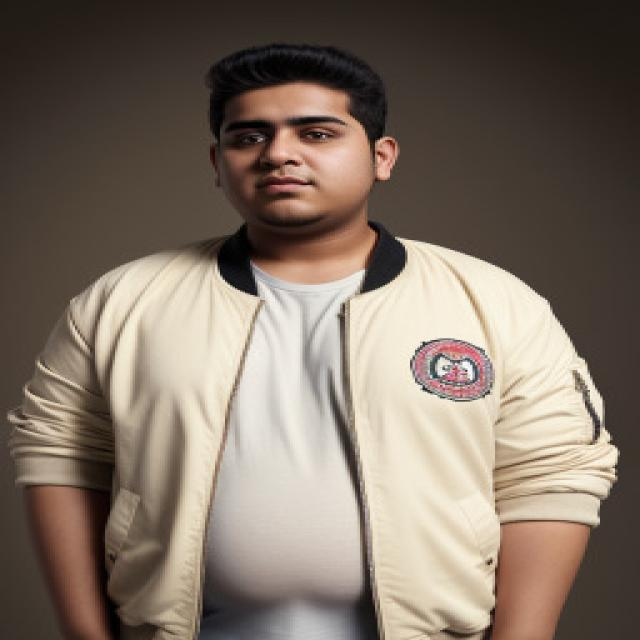Ai human 2: (11, 27, 623, 640)
